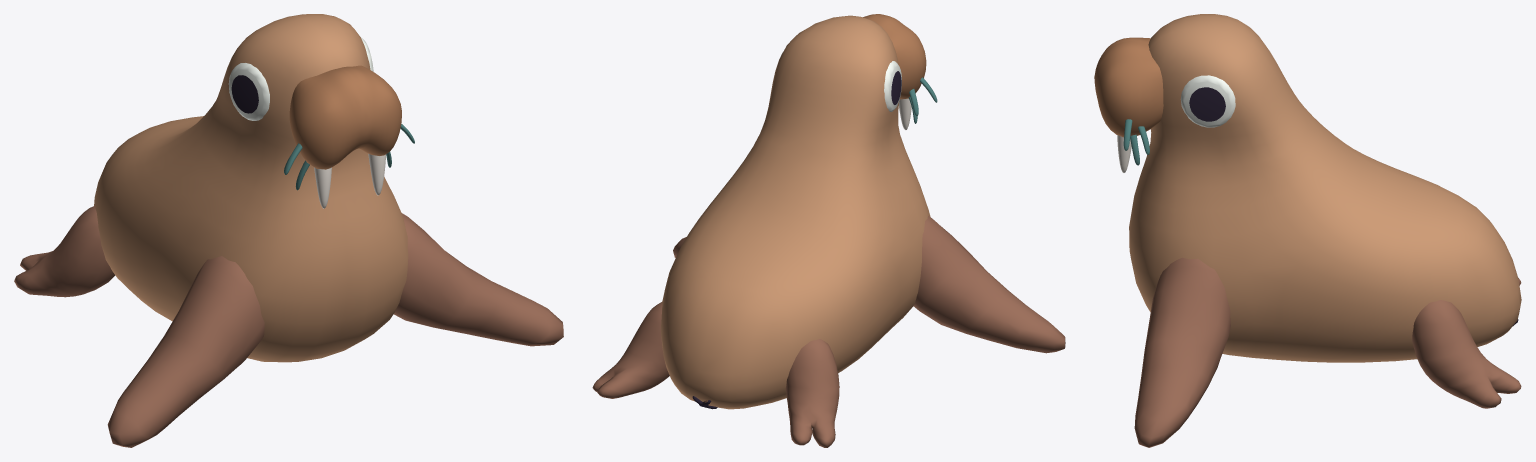
File: walrus.glb
3 renders of one model, left to right at view 1: azimuth 30°, elevation 25°; view 2: azimuth 150°, elevation 25°; view 3: azimuth 270°, elevation 25°, orthographic. The views are drawn at different scales.
Visible parts, largest first — view 1: Walrus_LOD0; view 2: Walrus_LOD0; view 3: Walrus_LOD0.
Boxes of the visible parts, x1,y1,x2,y2 form: Walrus_LOD0: (14,14,563,447); Walrus_LOD0: (592,14,1065,447); Walrus_LOD0: (1094,14,1521,447).
Size of the model in its own units: 303 by 224 by 264.
1 material, 1 textured.
